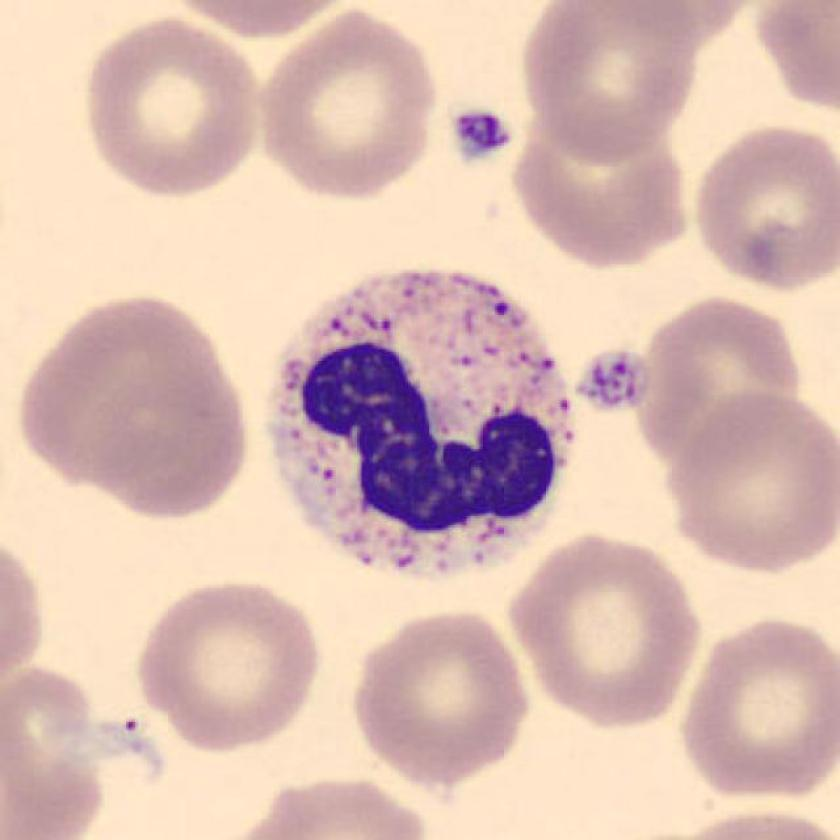neutrophil: (270, 270, 575, 573)
